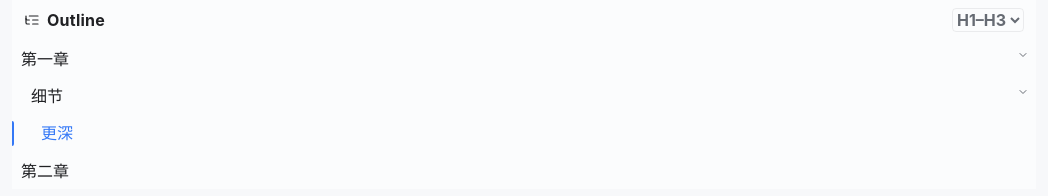
folds sections and filters levels without changing the heading source or active position
Click the button named "Collapse section: 第一章".
click(1023, 55)  # box [1013,45,1033,65]
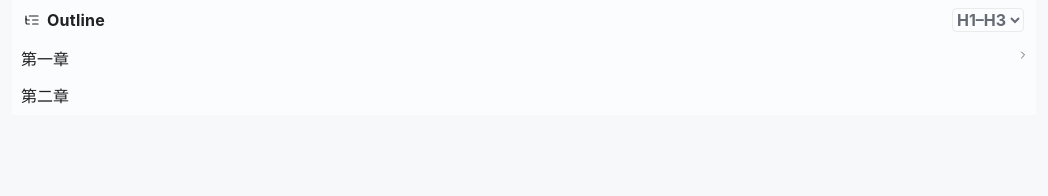
Expected: the button "细节" is gone
Click the button named "Expand section: 第一章".
click(1023, 55)  # box [1013,45,1033,65]
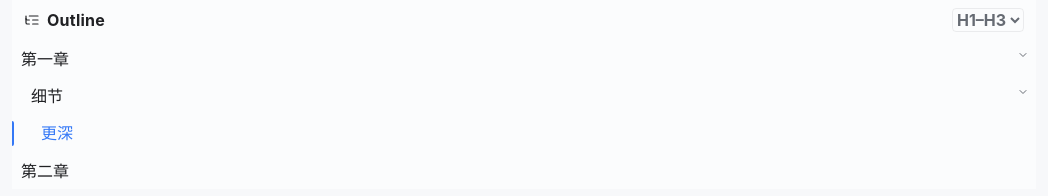
Select "H1–H1" in the dropdown named "Heading levels" at (988, 20), box [952,8,1024,32]
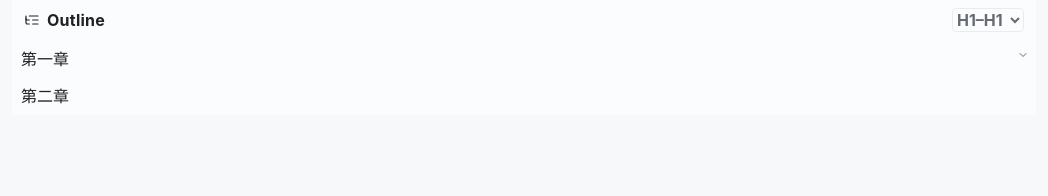
Expected: the button "更深" is gone
